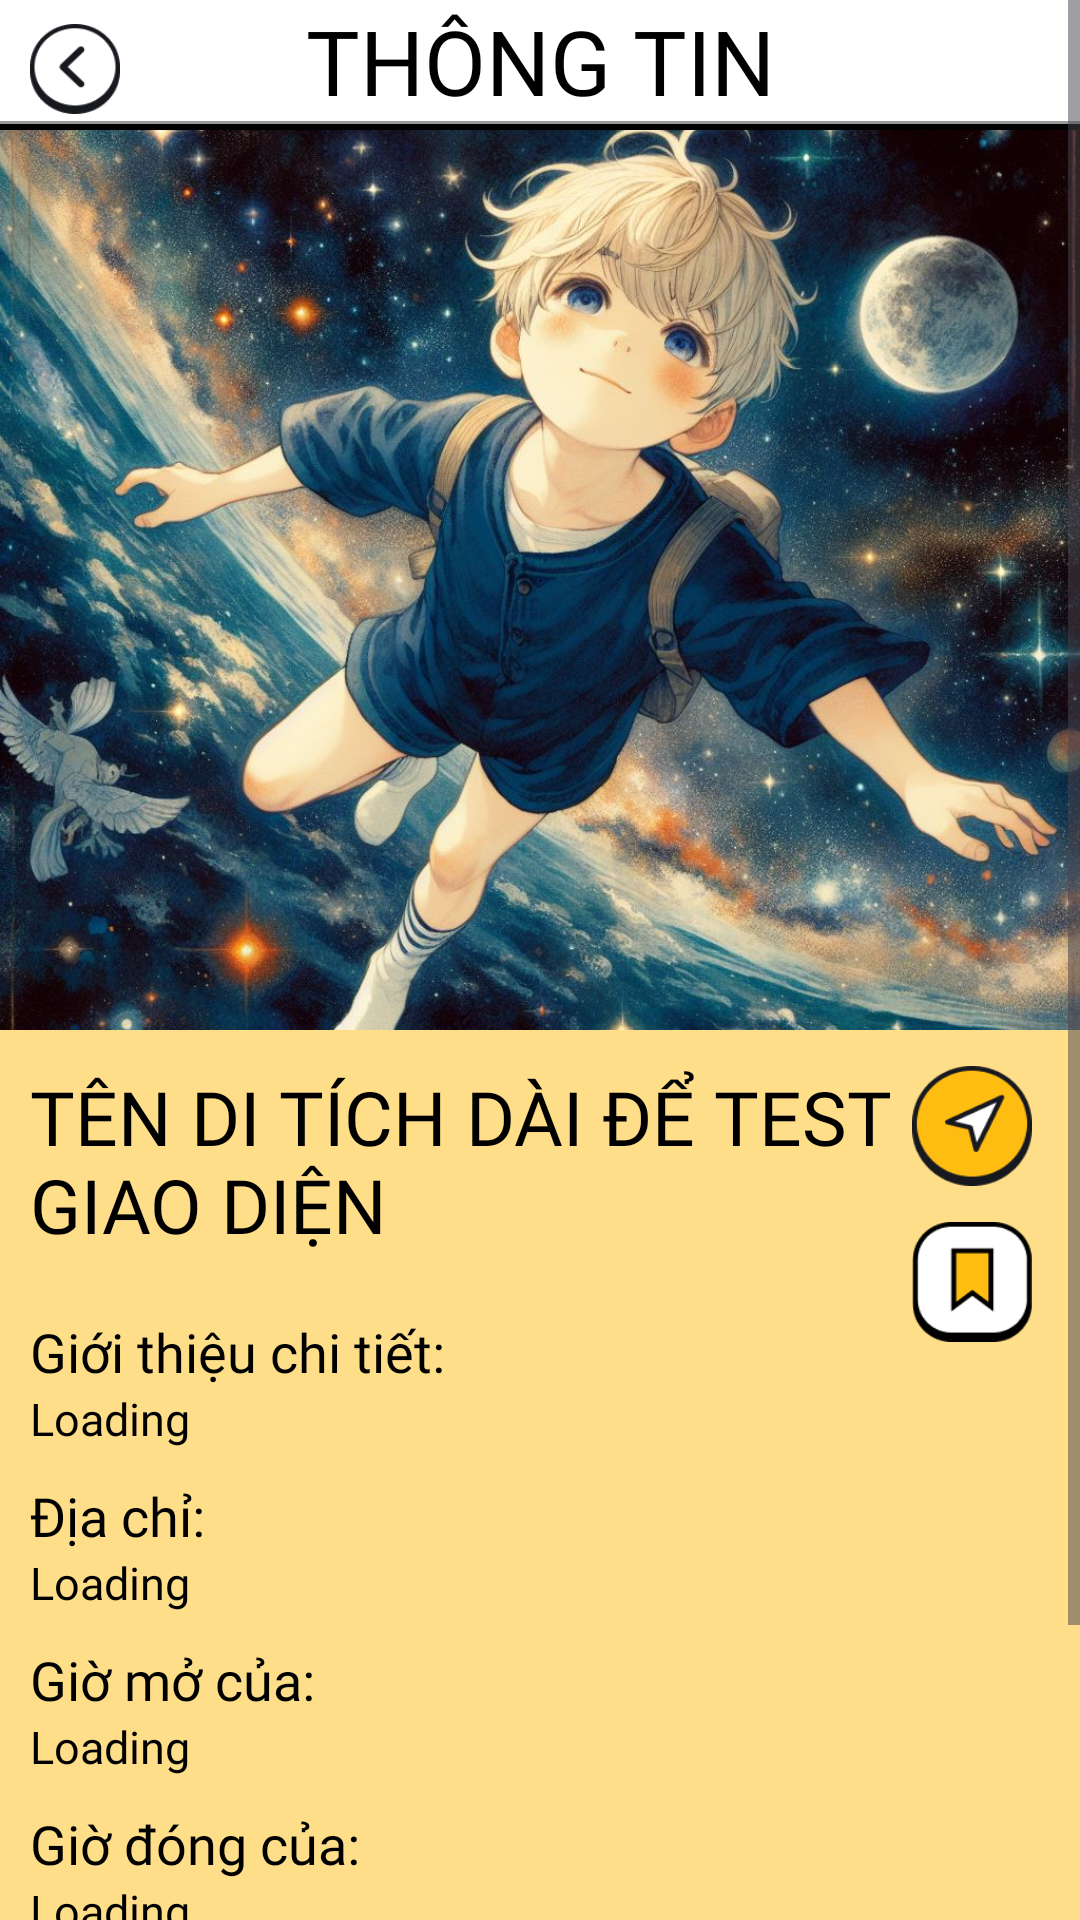

Where icons sit on this 1080px x 1920px app screen, as detection(x1, y1, x2, y2):
directbtn: detection(912, 1066, 1032, 1186)
savebtn: detection(912, 1222, 1032, 1342)
